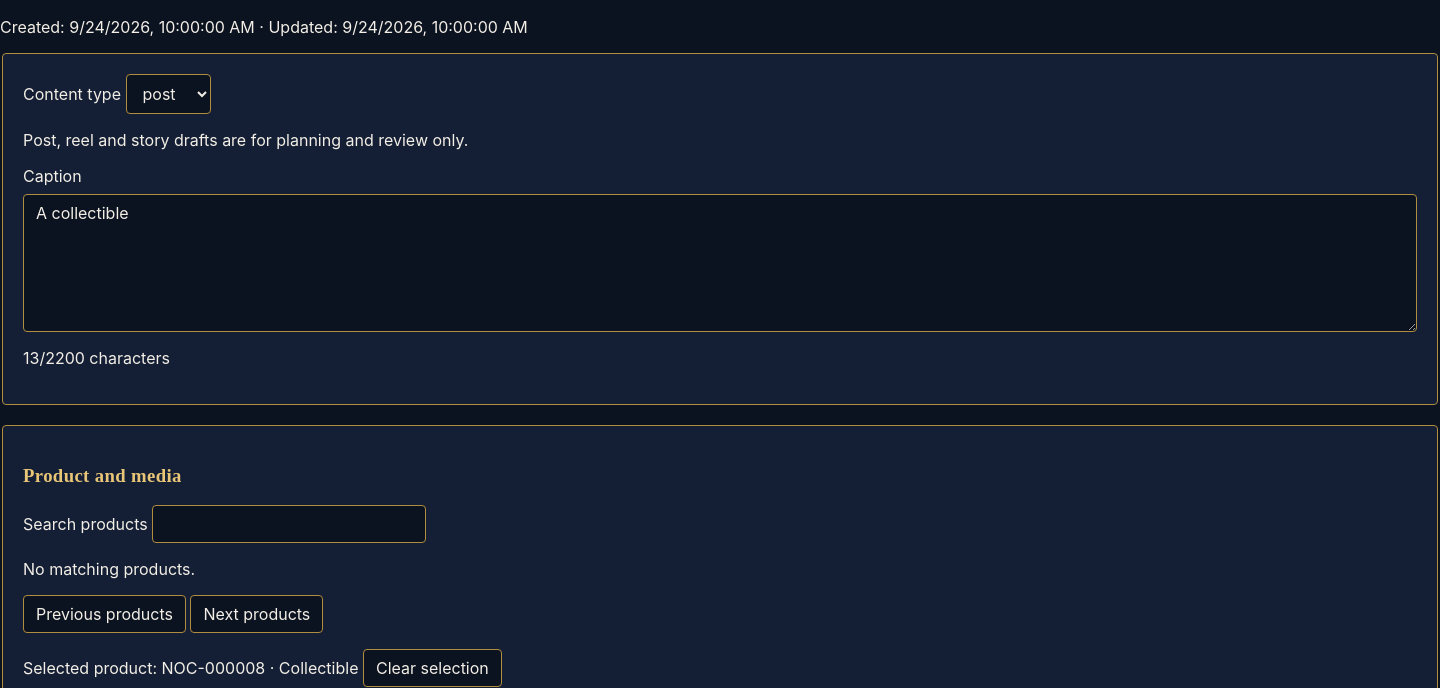
Test: Social Manager › edits a draft and submits the saved version explicitly
Step 1. Replace the text in the text box labelled "Caption" with "Edited caption" → (720, 263), box [23, 194, 1417, 332]
(page scrolled)
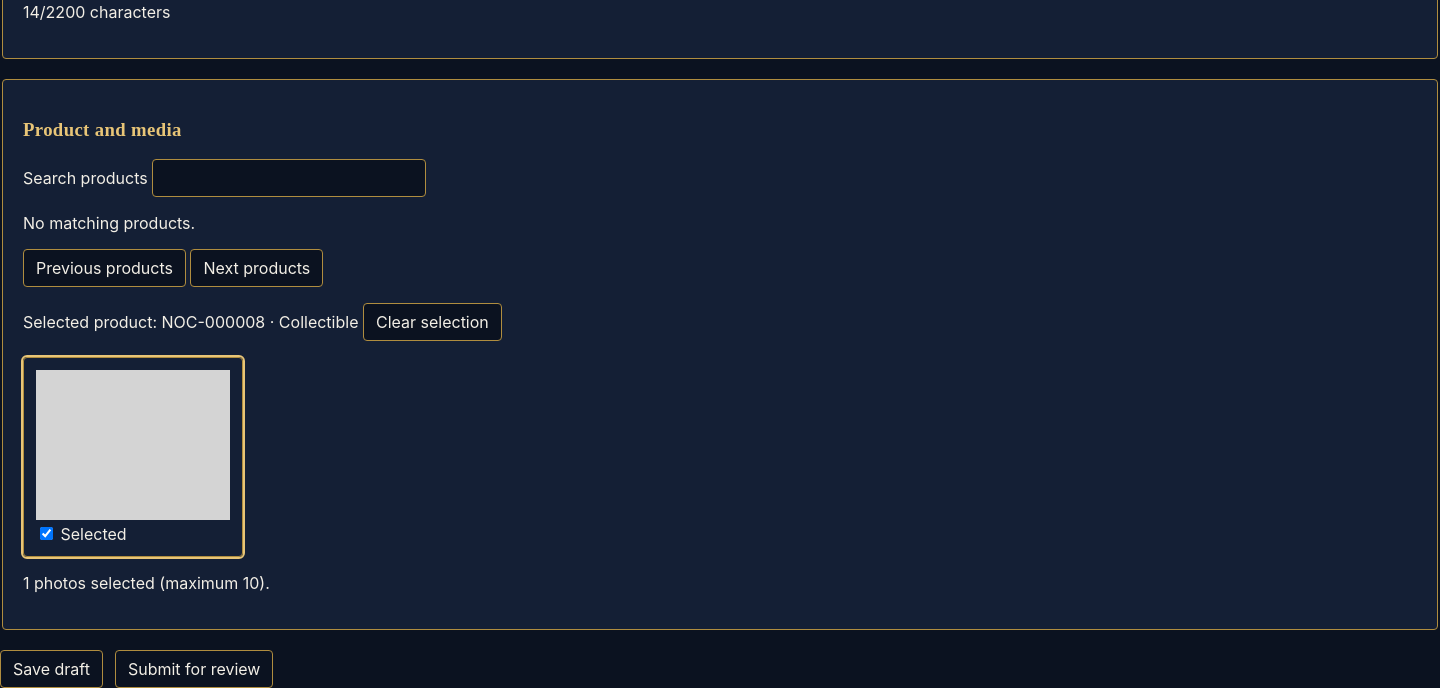
Step 2. Click the button "Submit for review" → click(194, 669), box [115, 650, 273, 687]
(page scrolled)
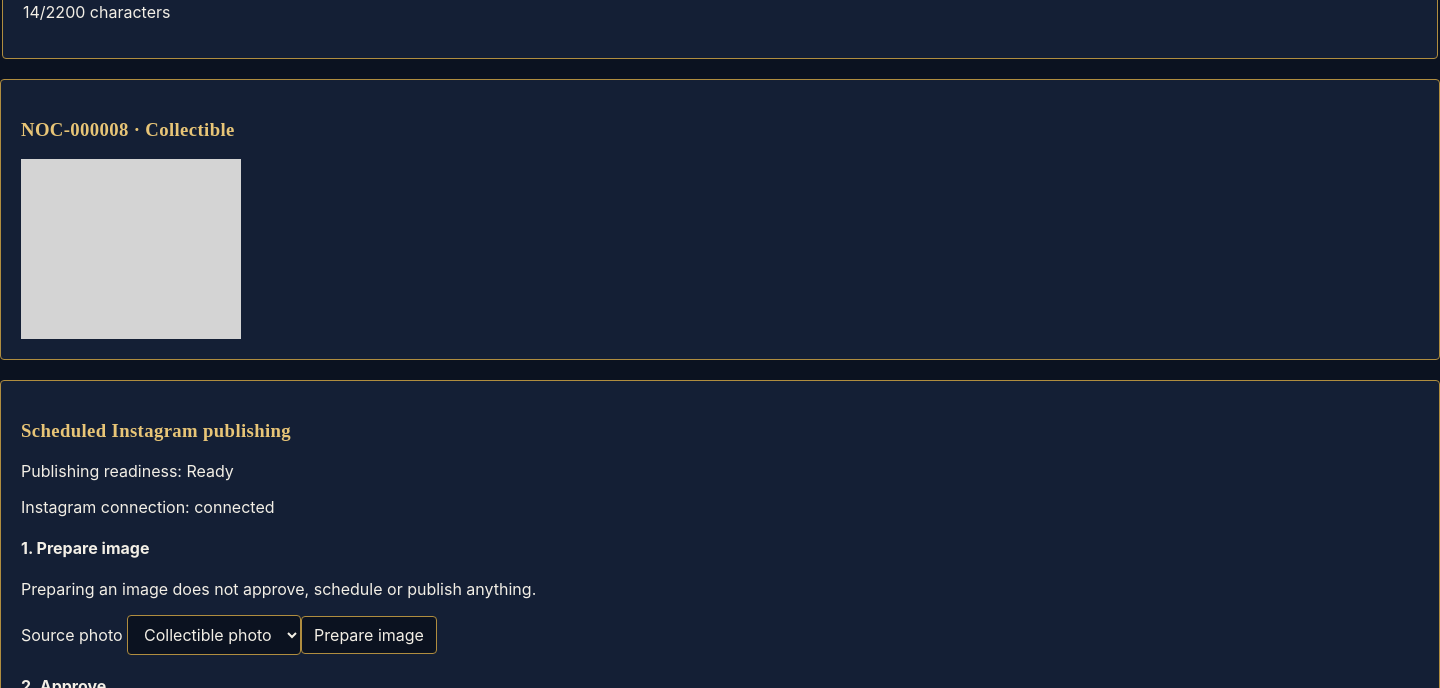
Now the button "Prepare image" is shown, box [301, 616, 437, 654]
